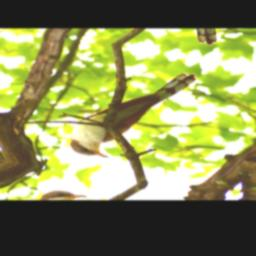Cuckoo: (60, 59, 200, 167)
